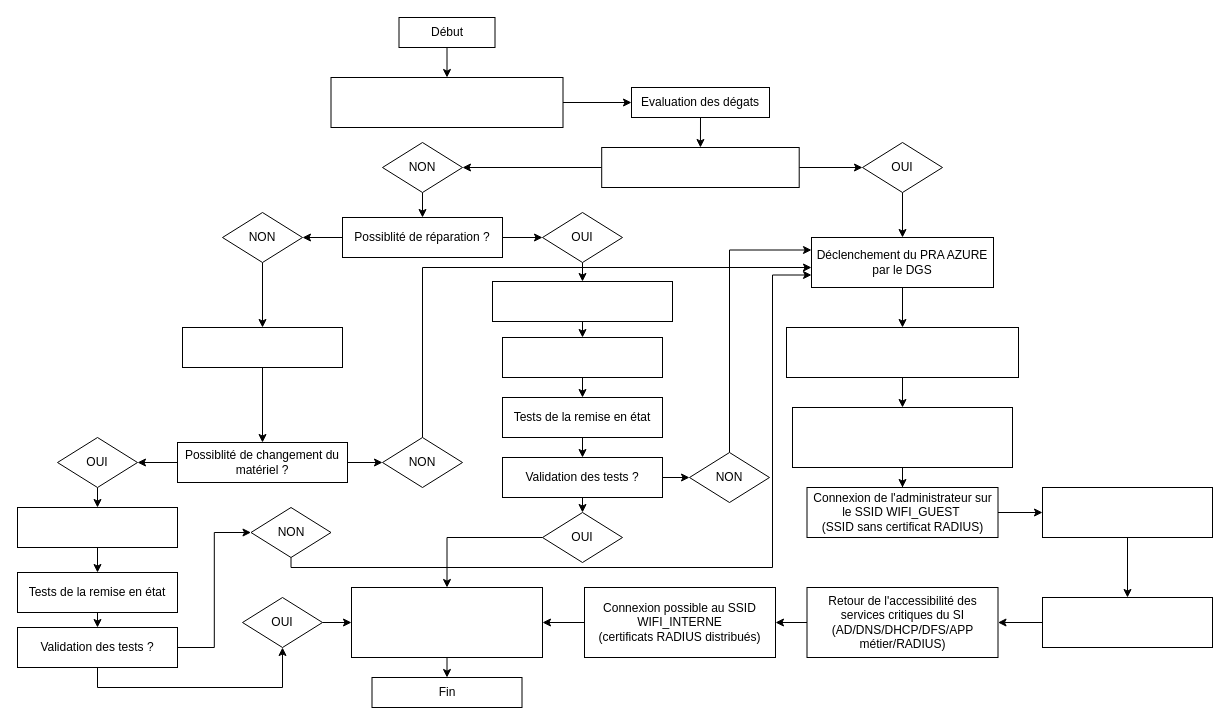
The diagram is 1230 pixels wide and 725 high, and some of its shapes have lost their labels. The shapes that lost their labels are listed below. From the top down, each one's box as (x1, y1, x2, y2) in pixels, then its label:
(330, 76, 563, 128): Crash critique enregistré (Sinistre mairie/ coupure générale du SI)
(601, 146, 799, 188): Destruction physique de la salle serveur de la mairie ?
(492, 280, 672, 322): Déclenchement du PRA général
(182, 326, 342, 368): Déclenchement du PRA matériel
(502, 336, 662, 378): Remise en production du SI
(786, 326, 1018, 378): Relocalisation temporaire des agents vers le site culturel de la mairie
(792, 406, 1012, 468): Bascule automatique des bornes WIFI en mode standalone (sans WLC) FlexConnect
(16, 506, 178, 548): Changement du matériel défectueux
(1042, 486, 1212, 538): Connexion sur la console Azure via réseau invité
(350, 586, 542, 658): Retour à la production du SI en mode dégradé
(1042, 596, 1212, 648): Allumage de l'infrastructure critique sur Azure
